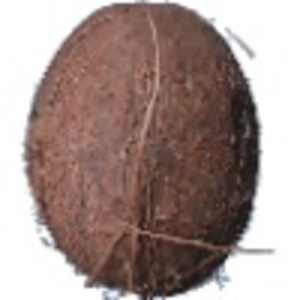coco: (25, 1, 261, 300)
